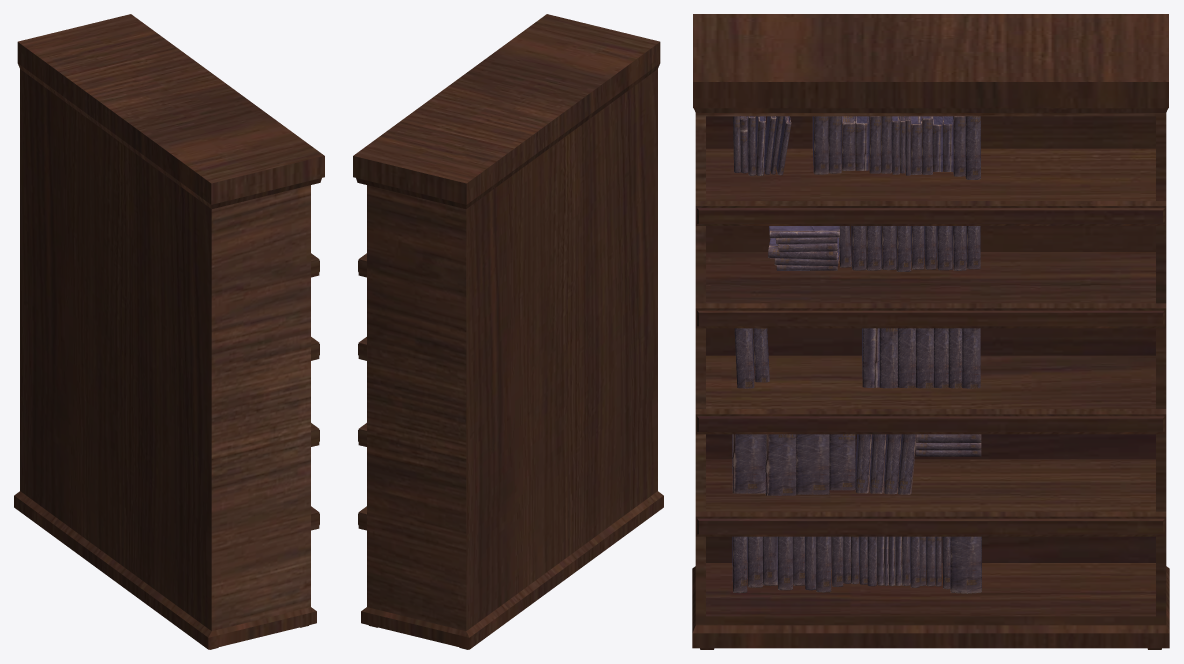
The model's file is 图书馆书架3.fbx.
3 views of the same model, side by side, from view 1: azimuth 30°, elevation 25°; view 2: azimuth 150°, elevation 25°; view 3: azimuth 270°, elevation 25° (orthographic). The views are drawn at different scales.
Visible parts, largest first — view 1: Bookcase_01_Cube.004; view 2: Bookcase_01_Cube.004; view 3: Bookcase_01_Cube.004, Bookcase_01_Cube.001.
Boxes of the visible parts, x1,y1,x2,y2 form: Bookcase_01_Cube.004: (14,14,324,649); Bookcase_01_Cube.004: (353,14,663,649); Bookcase_01_Cube.004: (692,14,1169,649); Bookcase_01_Cube.001: (732,116,981,593).
Size of the model in its own units: 234 by 900 by 676.
2 materials, 2 textured.
